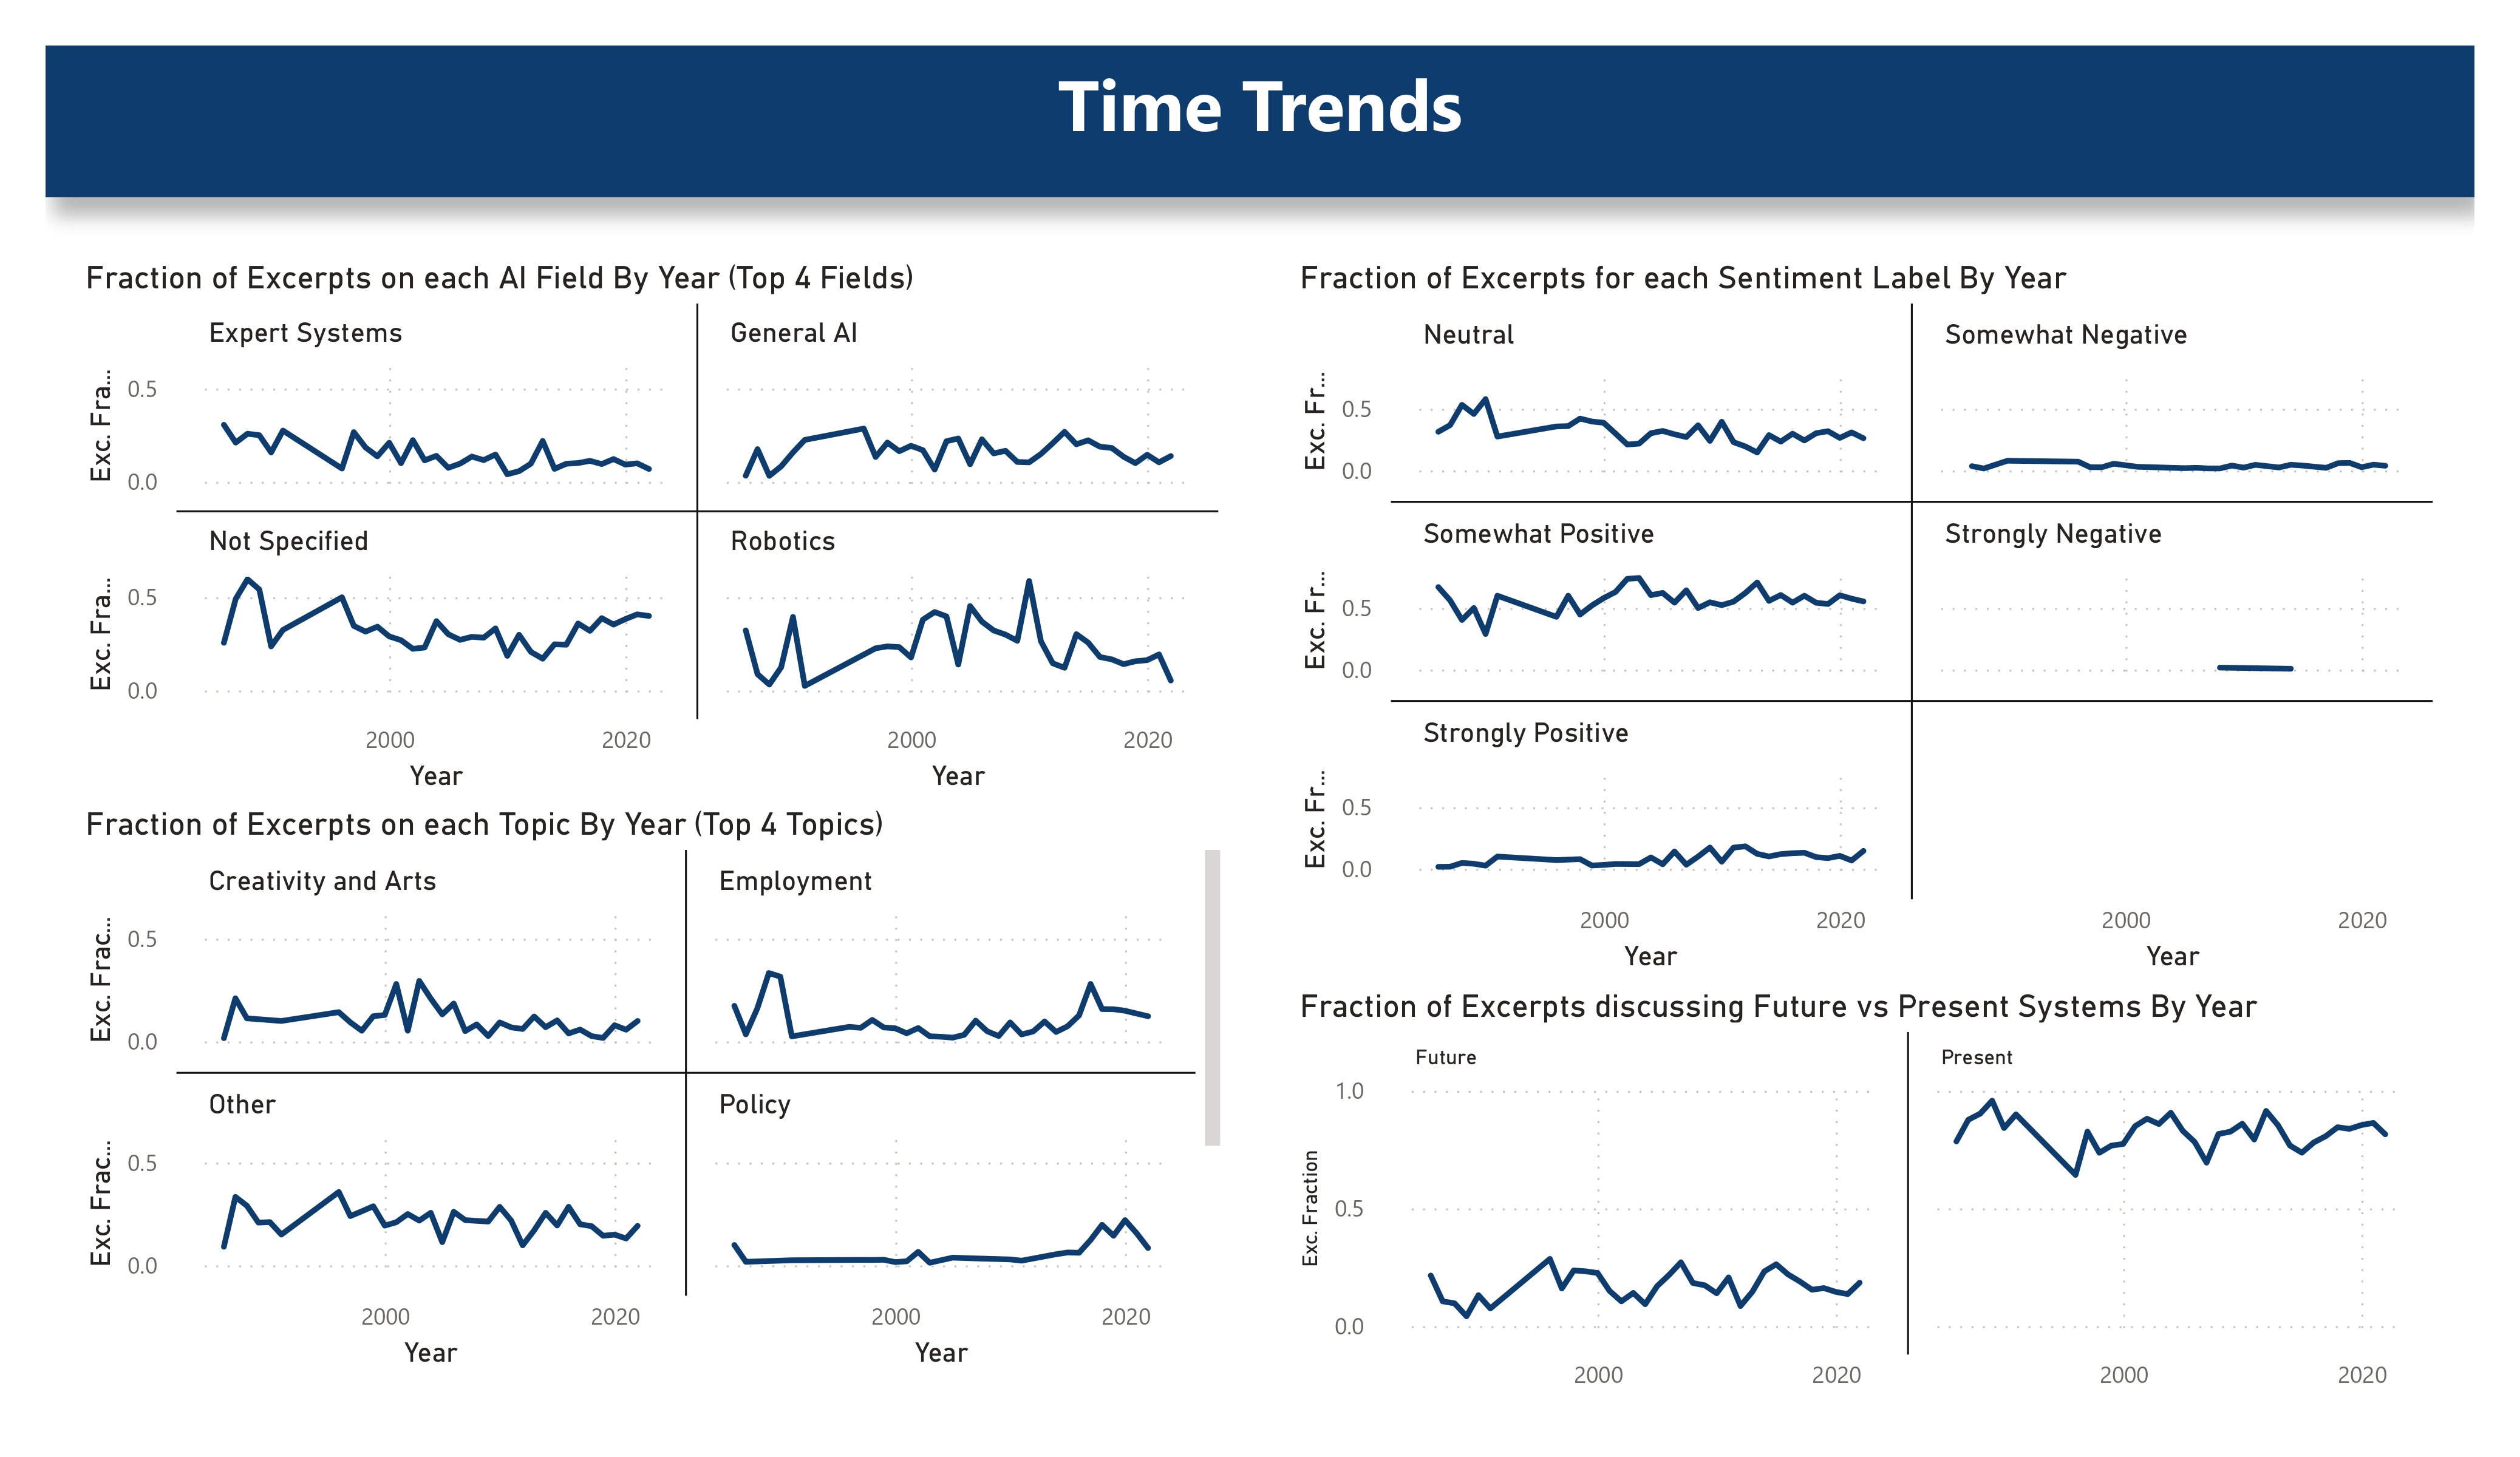

What the dashboard file says about the page in this screenshot:
{"tool":"powerbi","page":{"name":"Time Trends","canvas":[1280,720],"ordinal":2},"visuals":[{"type":"textbox","box":[0,0,1280,80],"z":0},{"type":"lineChart","title":"Fraction of Excerpts on each Topic By Year (Top 4 Topics)","fields":{"Category":["ai-mood.pub_date.Variation.Date Hierarchy.Year"],"Y":["ai-mood.Topic Fraction"],"Rows":["ai-mood.topic"]},"box":[16,400,608,304],"z":1000},{"type":"lineChart","title":"Fraction of Excerpts on each AI Field By Year (Top 4 Fields)","fields":{"Category":["ai-mood.pub_date.Variation.Date Hierarchy.Year"],"Y":["ai-mood.Topic Fraction"],"Rows":["ai-mood.field"]},"box":[16,112,608,288],"z":2000},{"type":"lineChart","title":"Fraction of Excerpts for each Sentiment Label By Year","fields":{"Category":["ai-mood.pub_date.Variation.Date Hierarchy.Year"],"Y":["ai-mood.Topic Fraction"],"Rows":["ai-mood.sentiment_likert_label"]},"box":[656,112,608,384],"z":3000},{"type":"lineChart","title":"Fraction of Excerpts discussing Future vs Present Systems By Year","fields":{"Category":["ai-mood.pub_date.Variation.Date Hierarchy.Year"],"Y":["ai-mood.Topic Fraction"],"Rows":["ai-mood.temporality"]},"box":[656,496,608,224],"z":4000}]}

Visuals, with their boxes in screenshot pixels (x1, y1, x2, y2):
textbox: 46:46:2474:197
"Fraction of Excerpts on each Topic By Year (Top 4 Topics)" lineChart: 76:804:1230:1381
"Fraction of Excerpts on each AI Field By Year (Top 4 Fields)" lineChart: 76:258:1230:804
"Fraction of Excerpts for each Sentiment Label By Year" lineChart: 1290:258:2444:987
"Fraction of Excerpts discussing Future vs Present Systems By Year" lineChart: 1290:987:2444:1411
